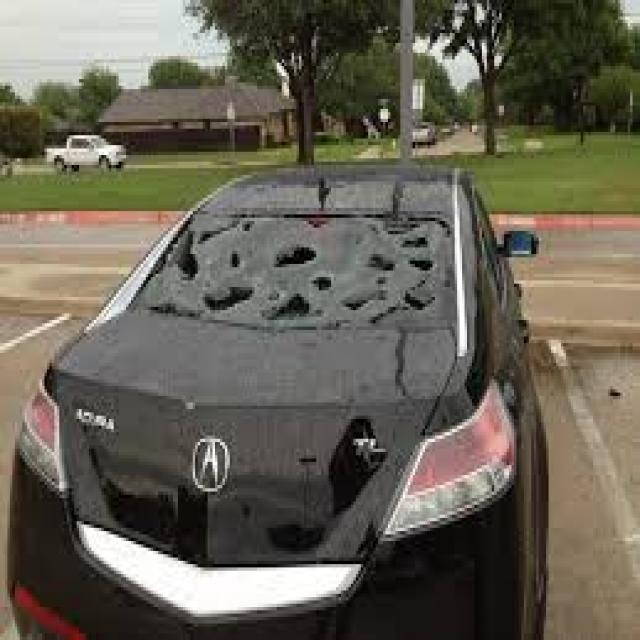minor: (164, 210, 481, 351)
